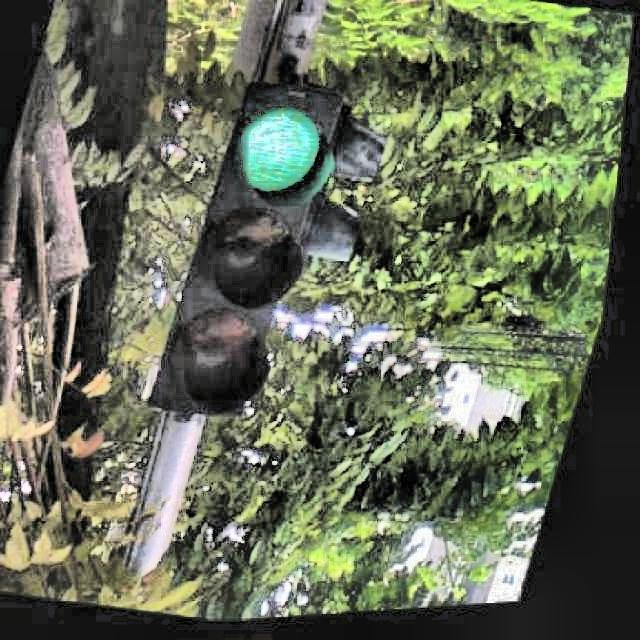green: (183, 75, 321, 444)
